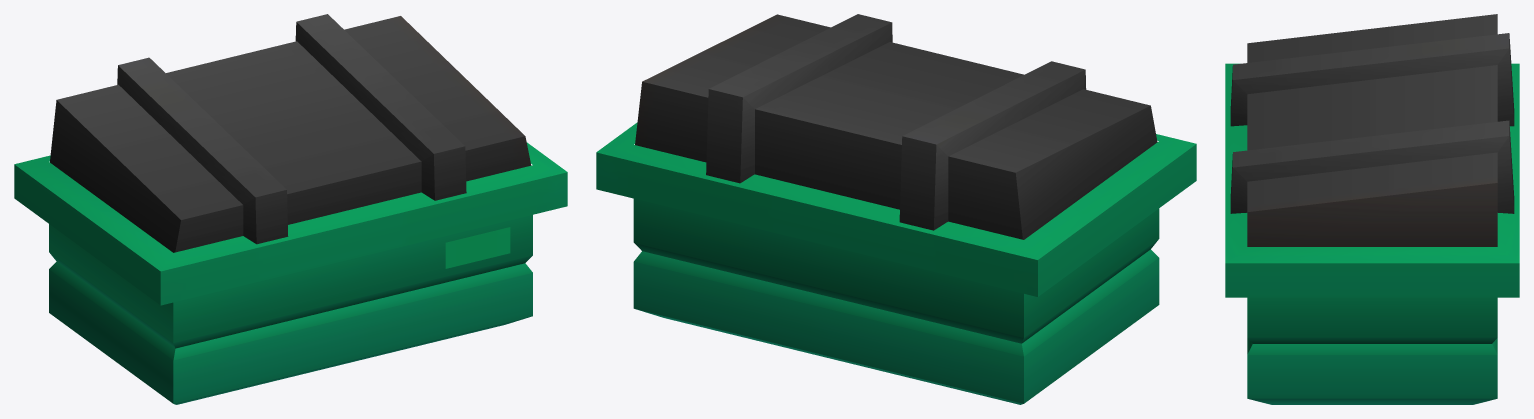
File: container.glb
The picture shows the model from 3 angles, left to right: view 1: azimuth 30°, elevation 25°; view 2: azimuth 150°, elevation 25°; view 3: azimuth 270°, elevation 25°; orthographic projection. The views are drawn at different scales.
Parts seen in each view (by area): view 1: dumpster; view 2: dumpster; view 3: dumpster.
Part boxes in pixels (bbox=[...]): dumpster: bbox=[14, 14, 567, 404]; dumpster: bbox=[596, 14, 1196, 404]; dumpster: bbox=[1225, 14, 1519, 404].
Size of the model in its own units: 0.5659 by 0.3173 by 0.3528.
Materials: 1 (1 with a texture image).
